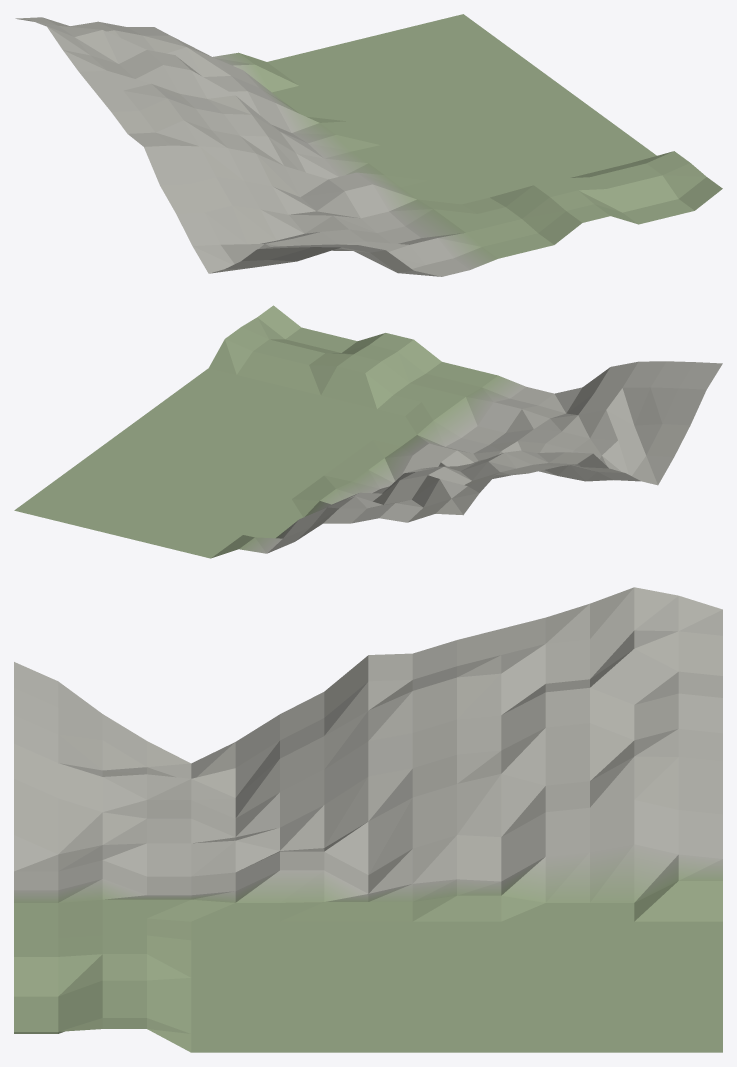
3 views of the same model, one above another, from view 1: azimuth 30°, elevation 25°; view 2: azimuth 150°, elevation 25°; view 3: azimuth 270°, elevation 25° (orthographic). The views are drawn at different scales.
Bounding box in the file's own units: 32 × 8.81 × 32.
